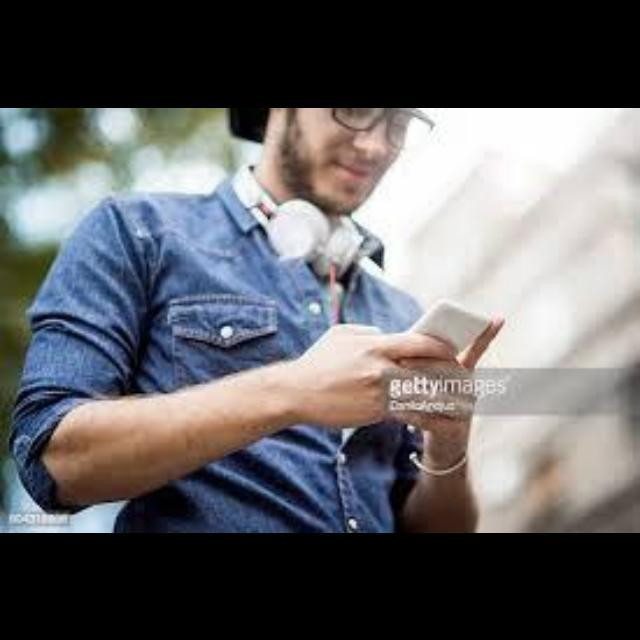Phone: (394, 296, 491, 364)
